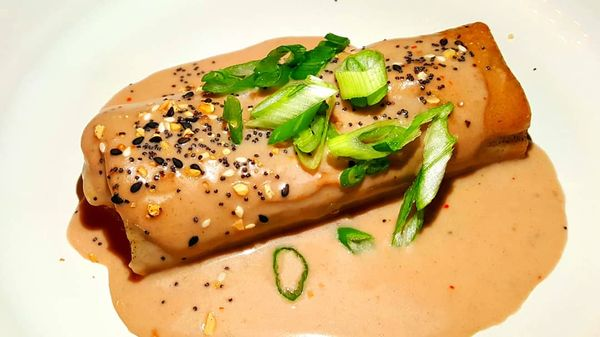sandwich: (76, 31, 522, 280)
